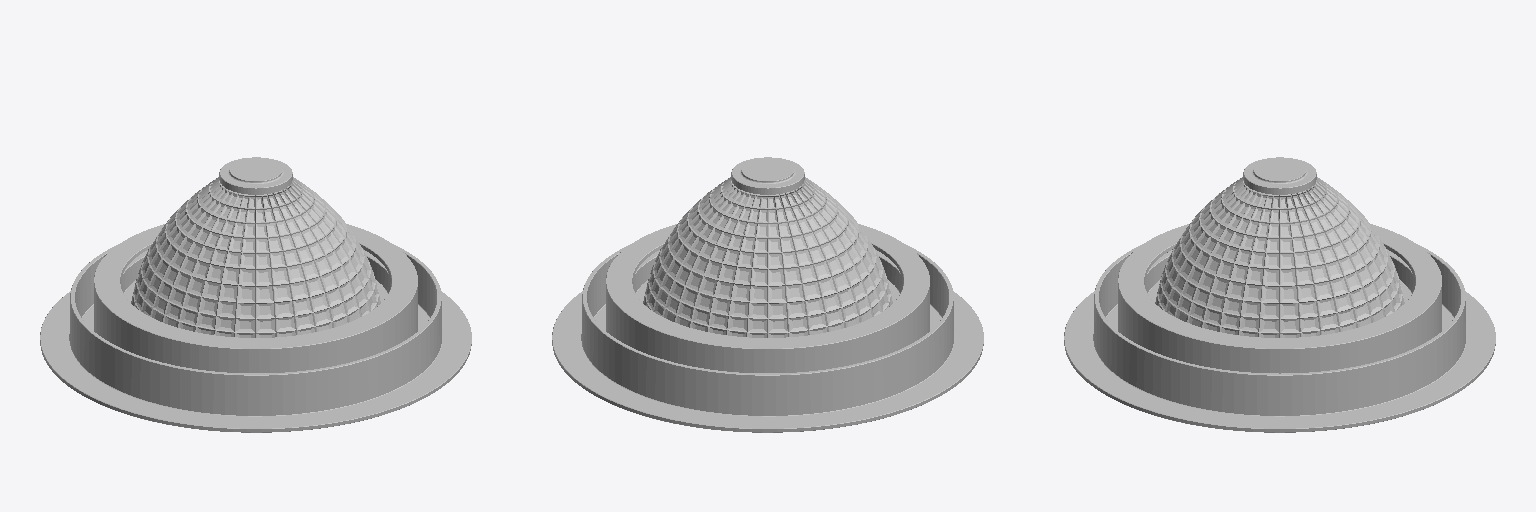
Rendered from LightSource.obj.
The picture shows the model from 3 angles: view 1: azimuth 30°, elevation 25°; view 2: azimuth 150°, elevation 25°; view 3: azimuth 270°, elevation 25°; orthographic projection.
Parts seen in each view (by area): view 1: AM152_063_34, AM152_063_35, AM152_063_31, AM152_063_32; view 2: AM152_063_34, AM152_063_35, AM152_063_31, AM152_063_32; view 3: AM152_063_34, AM152_063_35, AM152_063_31, AM152_063_32.
Part boxes in pixels (x1,y1,x2,y2): AM152_063_34: (40, 224, 471, 432); AM152_063_35: (124, 177, 387, 337); AM152_063_31: (219, 157, 292, 194); AM152_063_32: (121, 250, 390, 292); AM152_063_34: (552, 224, 983, 432); AM152_063_35: (636, 177, 899, 337); AM152_063_31: (731, 157, 804, 194); AM152_063_32: (633, 250, 902, 292); AM152_063_34: (1064, 224, 1495, 432); AM152_063_35: (1148, 177, 1411, 337); AM152_063_31: (1243, 157, 1316, 194); AM152_063_32: (1145, 250, 1414, 292).
Size of the model in its own units: 19.21 by 8.41 by 19.21.